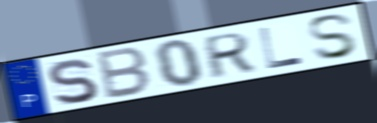0: (150, 37, 207, 89)
B: (96, 45, 152, 102)
L: (257, 25, 307, 71)
R: (203, 30, 256, 81)
S: (45, 57, 101, 107), (306, 12, 360, 61)
